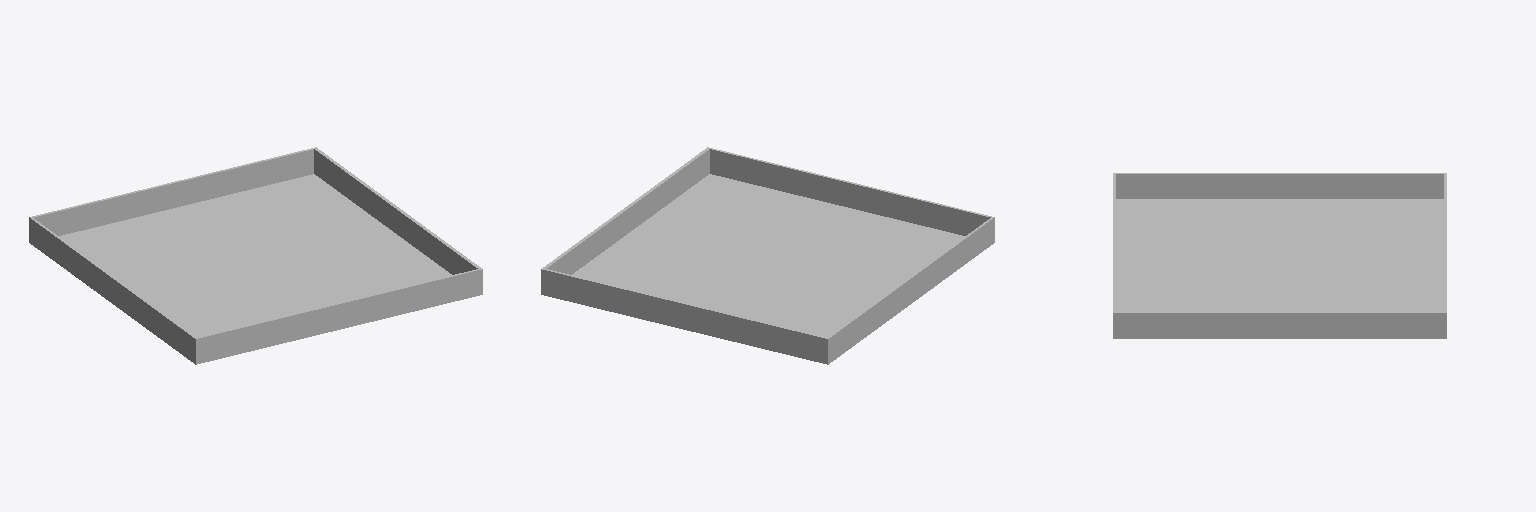
Rendered from main.obj.
The picture shows the model from 3 angles: view 1: azimuth 30°, elevation 25°; view 2: azimuth 150°, elevation 25°; view 3: azimuth 270°, elevation 25°; orthographic projection.
Visible parts, largest first — view 1: Cube; view 2: Cube; view 3: Cube.
Part boxes in pixels (x1,y1,x2,y2): Cube: (29, 147, 482, 364); Cube: (541, 147, 994, 364); Cube: (1113, 173, 1446, 338).
Size of the model in its own units: 60.52 by 5.17 by 60.86.